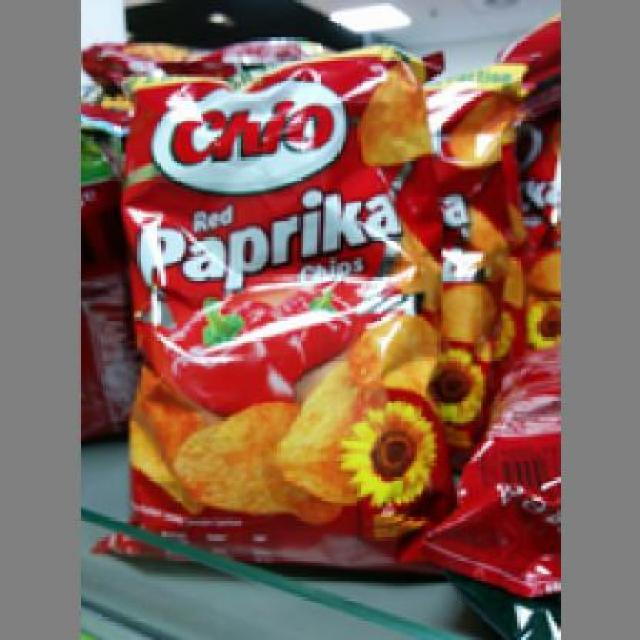Chips: (112, 71, 454, 580)
